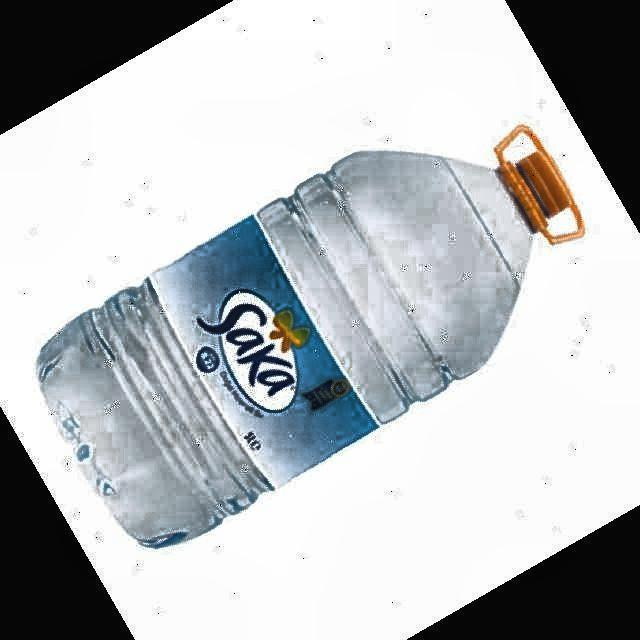plastic: (38, 126, 584, 547)
